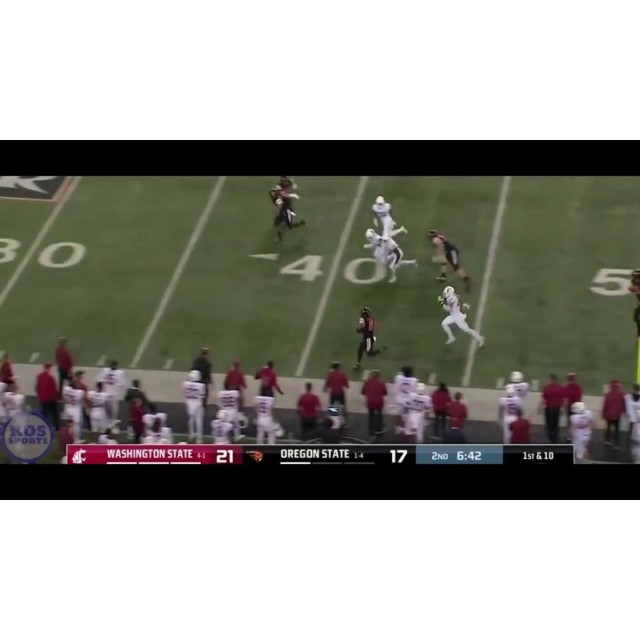american-football-player: (364, 229, 418, 284), (438, 285, 485, 347), (268, 179, 308, 242), (428, 229, 470, 286), (354, 306, 380, 368), (370, 195, 402, 240)
